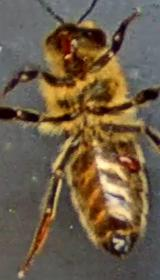varroa_mite: (112, 146, 150, 182)
